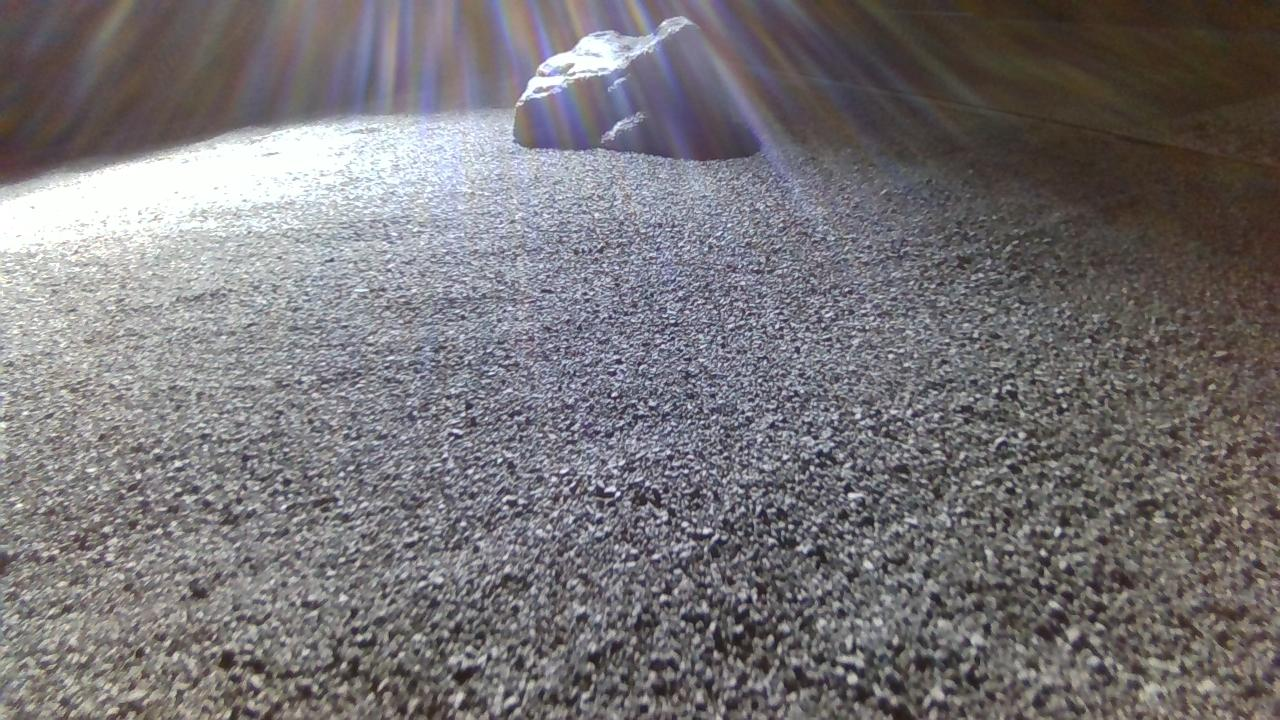rock: (514, 15, 736, 159)
